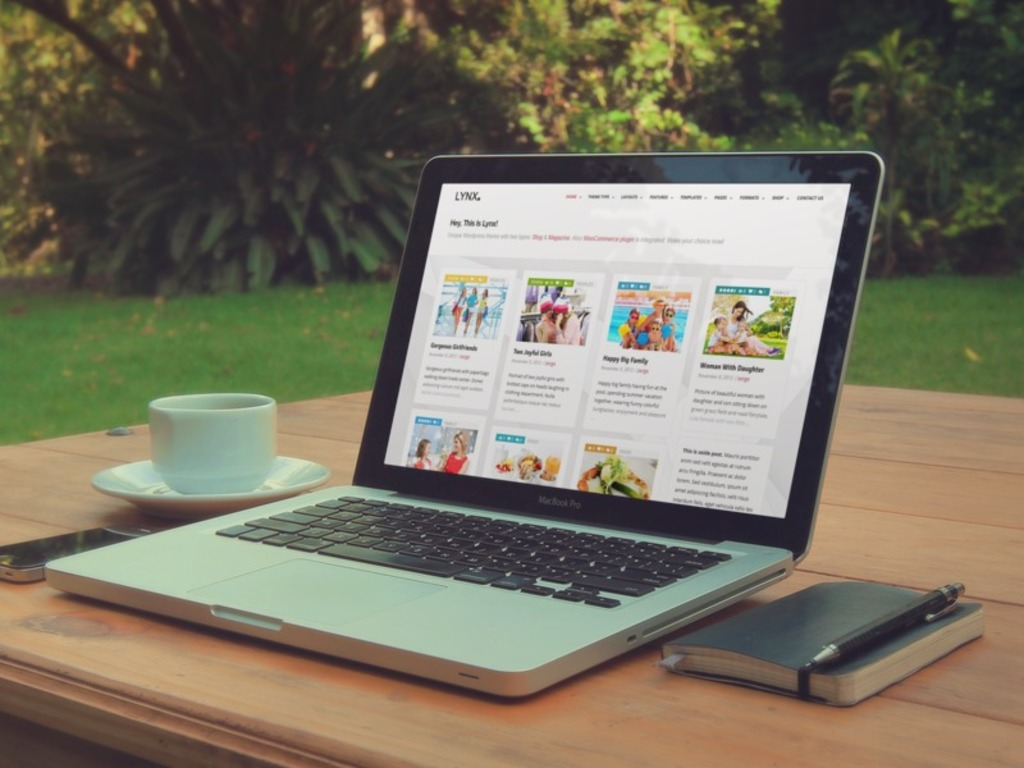Laptop: (38, 148, 883, 696)
